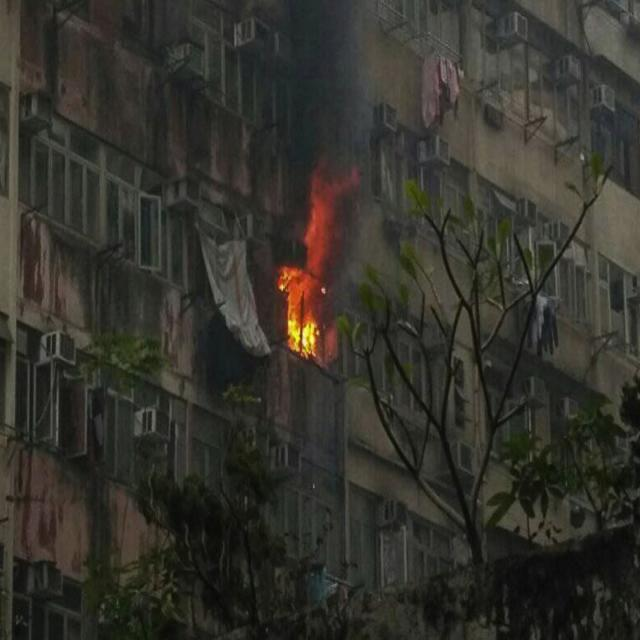Fire: (280, 264, 322, 357)
Smoke: (274, 2, 368, 252)
